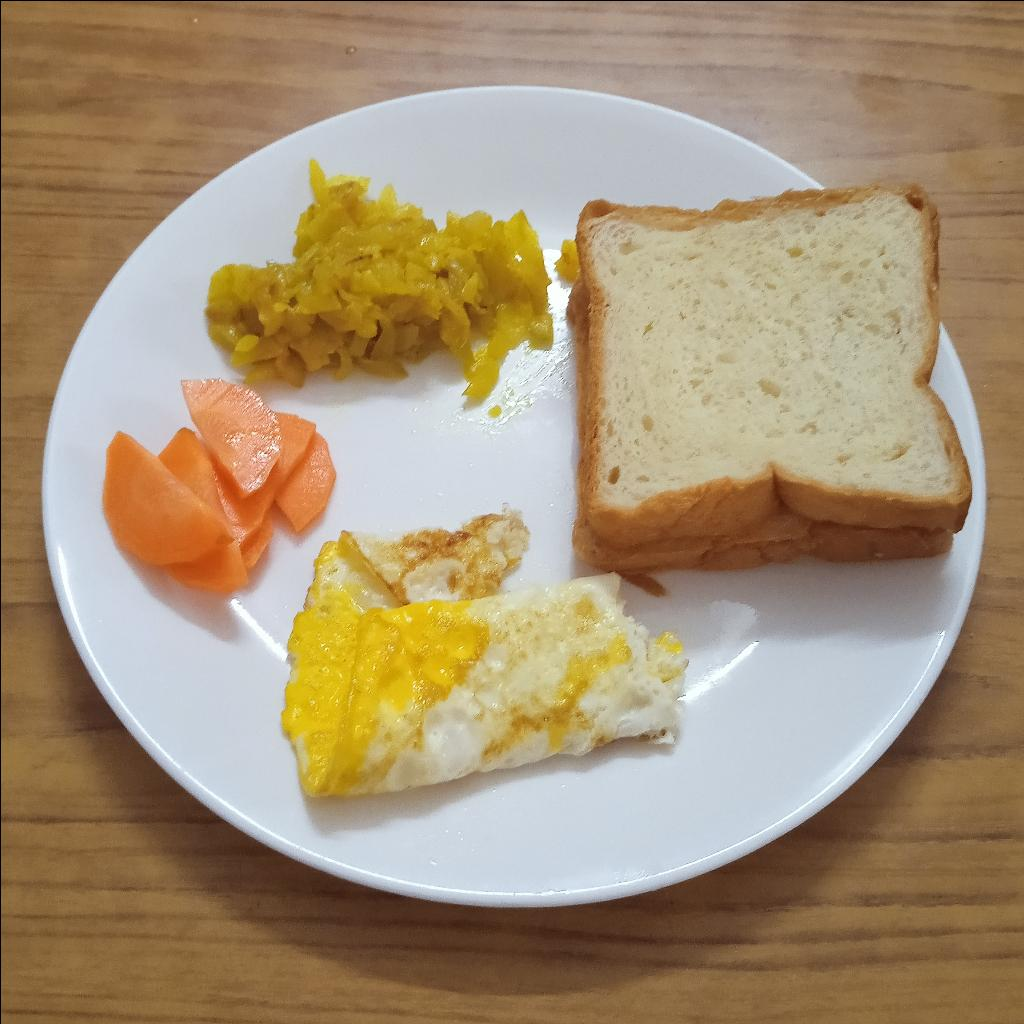bread: (564, 187, 973, 598)
carrot: (99, 375, 336, 594)
egg-poached: (273, 512, 687, 805)
vegetable: (204, 152, 553, 412)
